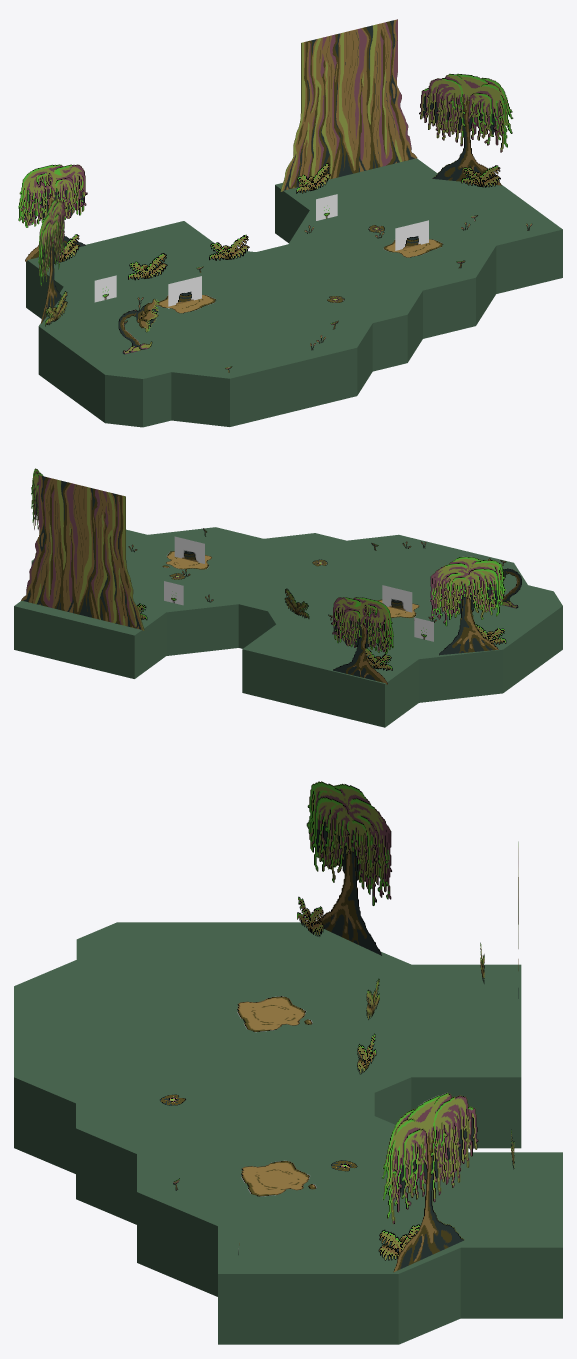
File: Nivel5.fbx
3 views of the same model, one above another, from view 1: azimuth 30°, elevation 25°; view 2: azimuth 150°, elevation 25°; view 3: azimuth 270°, elevation 25° (orthographic). The views are drawn at different scales.
Parts seen in each view (by area): view 1: Base.006, Sequoia.001, Arbol 1.001, Arbol 3.001, Arbol 2.001, Planta carnivora 9.001, Barril 1.002, Barril 1.003, Helecho.006, Helecho.011, Helecho.007, Helecho.010 (+3 smaller); view 2: Base.006, Sequoia.001, Arbol 2.001, Arbol 3.001, Barril 1.003, Barril 1.002, Barro 1.003, Arbol 1.001, Flor curativa.003, Flor curativa.002, Planta carnivora 9.001, Helecho.006 (+1 smaller); view 3: Base.006, Arbol 1.001, Arbol 2.001, Barro 1.003, Barro 1.002, Helecho.011.
Boxes of the visible parts, x1,y1,x2,y2 form: Base.006: (26,158,562,427); Sequoia.001: (280,19,417,191); Arbol 1.001: (419,73,513,185); Arbol 3.001: (18,164,87,261); Arbol 2.001: (38,199,64,324); Planta carnivora 9.001: (118,299,159,354); Barril 1.002: (168,276,201,308); Barril 1.003: (395,220,428,250); Helecho.006: (209,234,249,260); Helecho.011: (461,165,500,187); Helecho.007: (128,253,167,280); Helecho.010: (296,163,330,193); Base.006: (14,527,562,727); Sequoia.001: (21,475,144,630); Arbol 2.001: (429,556,506,655); Arbol 3.001: (331,597,393,684); Barril 1.003: (174,536,204,563); Barril 1.002: (382,585,412,612); Barro 1.003: (162,551,211,569); Arbol 1.001: (31,468,43,556); Flor curativa.003: (164,581,183,605); Flor curativa.002: (414,617,433,641); Planta carnivora 9.001: (487,558,521,608); Helecho.006: (284,588,309,618); Base.006: (14,922,562,1344); Arbol 1.001: (381,1092,478,1272); Arbol 2.001: (306,781,392,955); Barro 1.003: (241,1160,316,1196); Barro 1.002: (237,996,312,1032); Helecho.011: (378,1224,420,1260).
Bounding box in the file's own units: 2180 × 793 × 1404.
15 materials, 14 textured.
